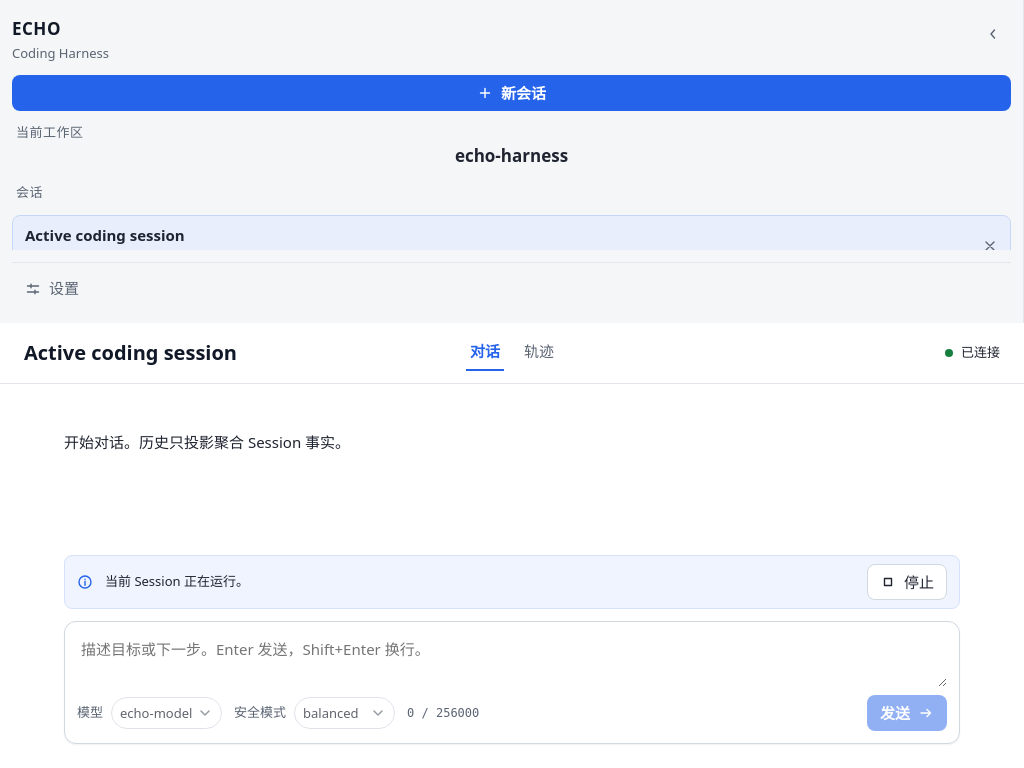
Test: Provider settings modal › makes Provider fields read-only while a Turn is running
What coordinates should you click on to do the following:
click the button "设置"
I would click on:
 (64, 288)
Its box is [12,270,1011,306].
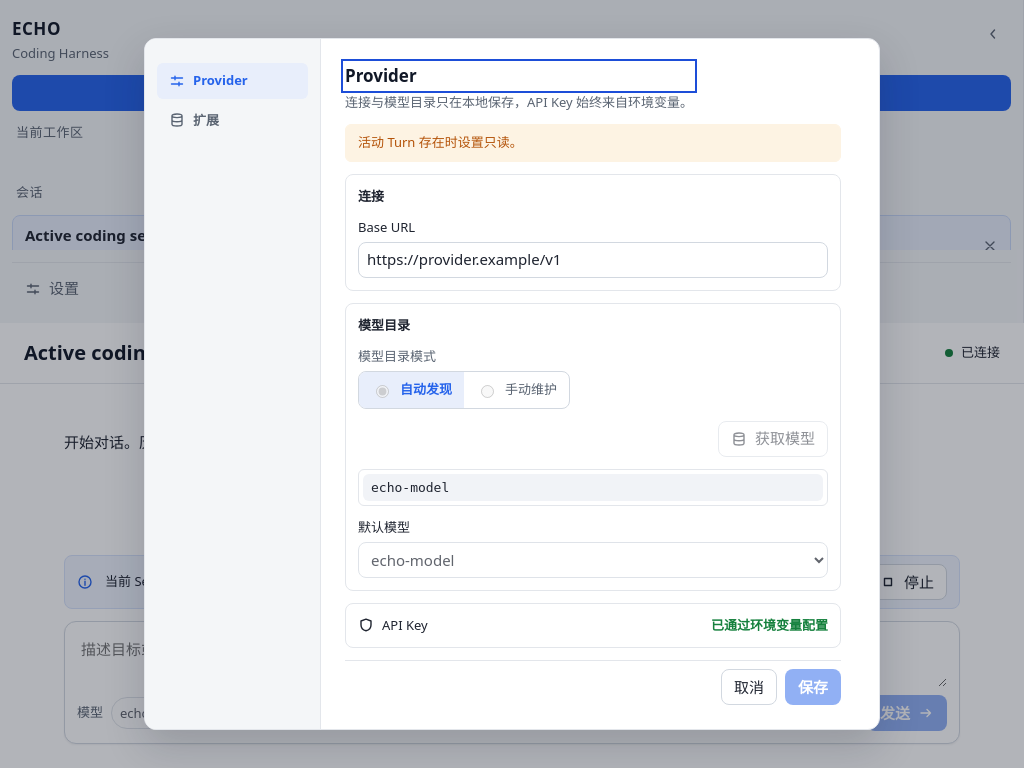
Check: the text "活动 Turn 存在时设置只读。" is shown, box [345,124,841,162]
Check: the button "保存" is disabled, box [785,669,841,705]
Check: the button "获取模型" is disabled, box [718,420,828,456]
